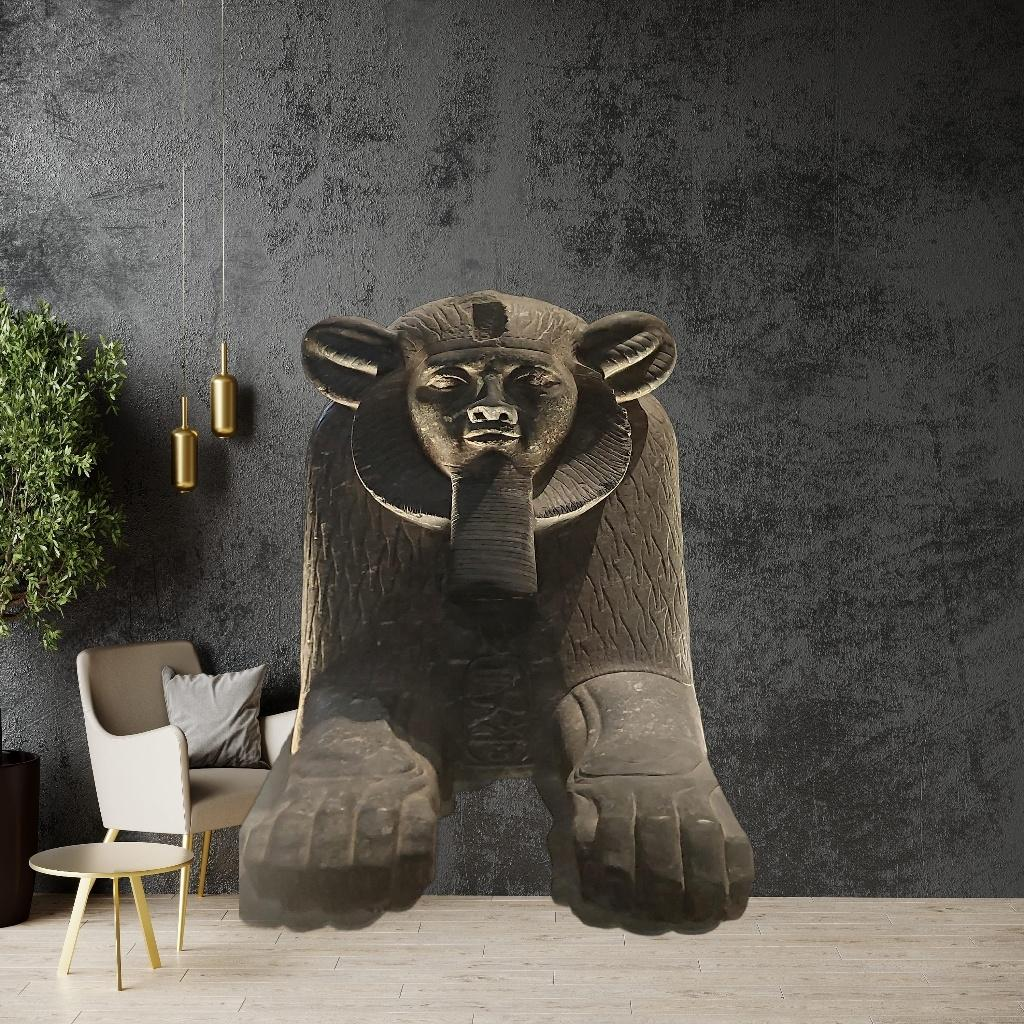Sphinx of Amenmhat III: (239, 286, 759, 938)
